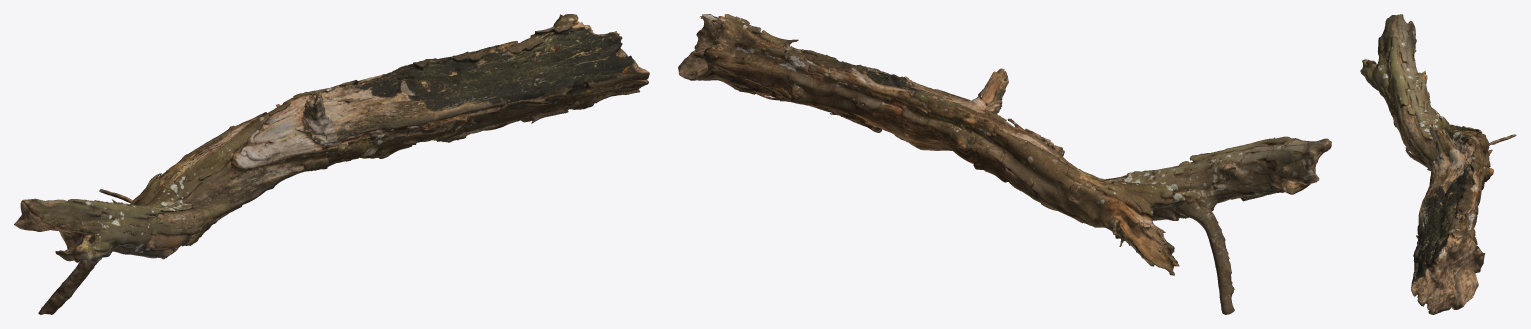
Rendered from dead_tree_trunk_02_1k.gltf.
3 renders of one model, left to right at view 1: azimuth 30°, elevation 25°; view 2: azimuth 150°, elevation 25°; view 3: azimuth 270°, elevation 25°, orthographic. The views are drawn at different scales.
Visible parts, largest first — view 1: dead_tree_trunk_02; view 2: dead_tree_trunk_02; view 3: dead_tree_trunk_02.
Part boxes in pixels (x1,y1,x2,y2): dead_tree_trunk_02: [14, 14, 649, 314]; dead_tree_trunk_02: [678, 14, 1331, 314]; dead_tree_trunk_02: [1360, 14, 1516, 314].
Bounding box in the file's own units: 4.05 × 1.06 × 1.06.
1 material, 1 textured.
